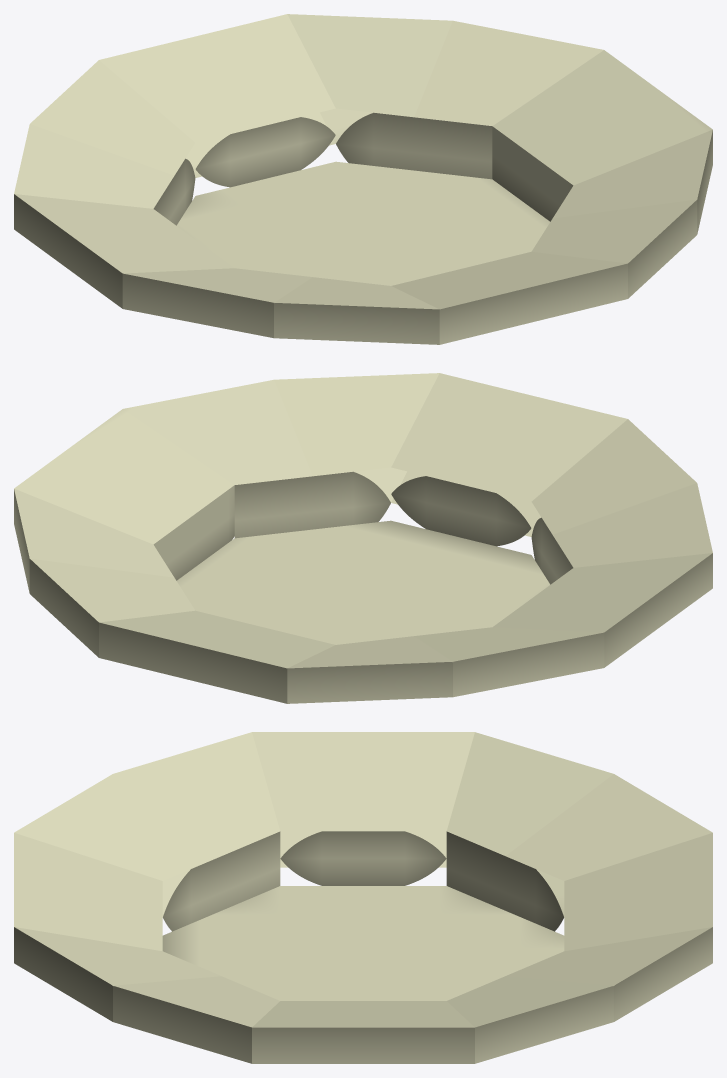
Rendered from PlateWhole.fbx.
3 renders of one model, top to bottom at view 1: azimuth 30°, elevation 25°; view 2: azimuth 150°, elevation 25°; view 3: azimuth 270°, elevation 25°, orthographic. The views are drawn at different scales.
Parts seen in each view (by area): view 1: Plate; view 2: Plate; view 3: Plate.
Part boxes in pixels (bbox=[...]): Plate: bbox=[14, 14, 712, 344]; Plate: bbox=[14, 373, 712, 703]; Plate: bbox=[14, 732, 712, 1063].
Size of the model in its own units: 54.42 by 7.81 by 54.42.
Materials: 1 (1 with a texture image).
